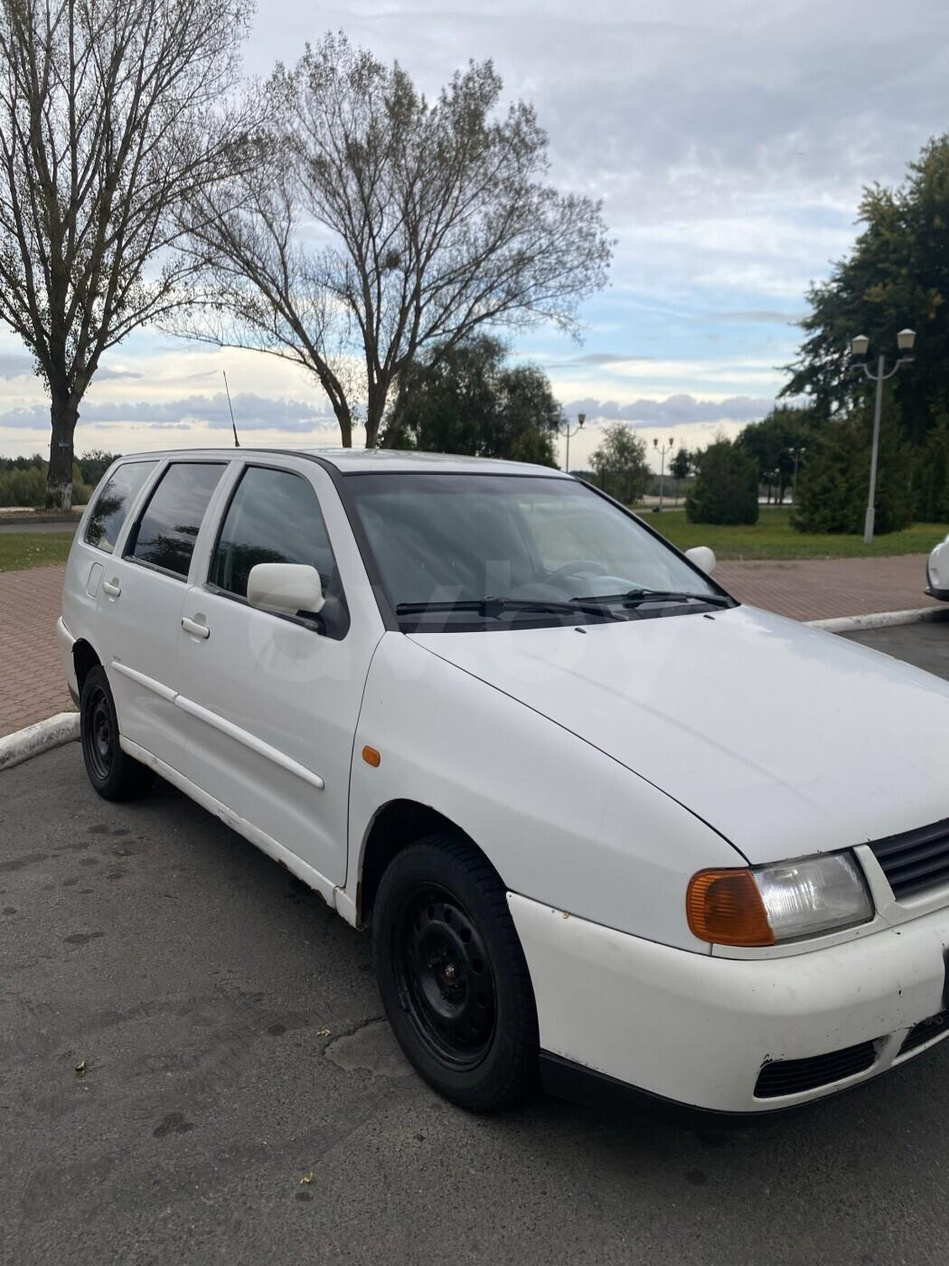Polo_1994-2002: (56, 422, 948, 1174)
